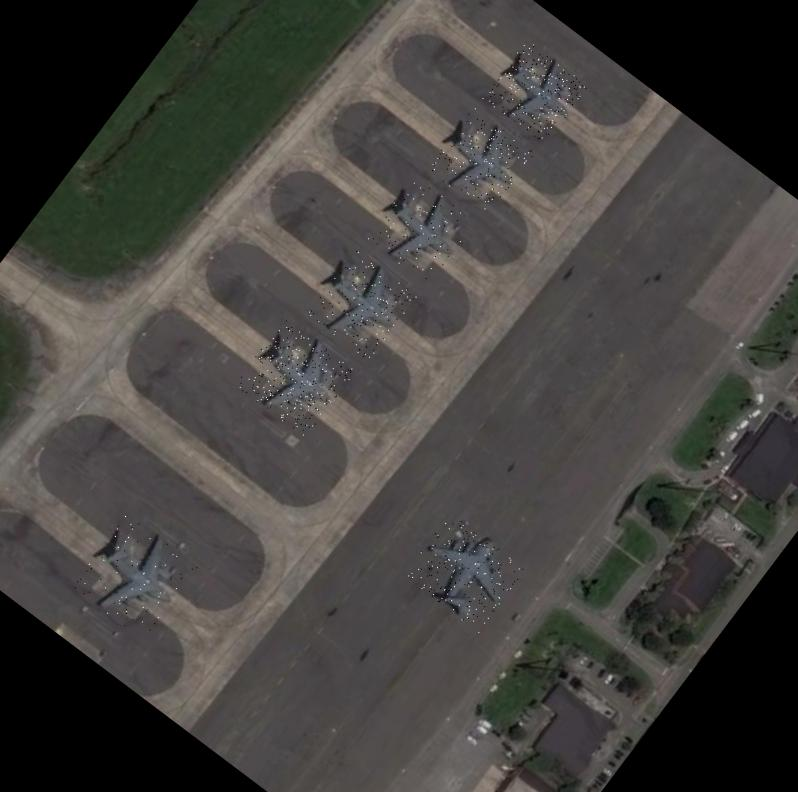A3: (70, 513, 198, 641), (402, 512, 526, 634), (233, 318, 355, 439), (365, 175, 477, 287), (306, 250, 416, 361), (426, 107, 534, 216), (482, 40, 588, 146)
